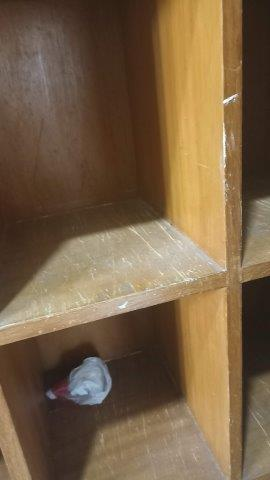plastik: (43, 356, 111, 406)
